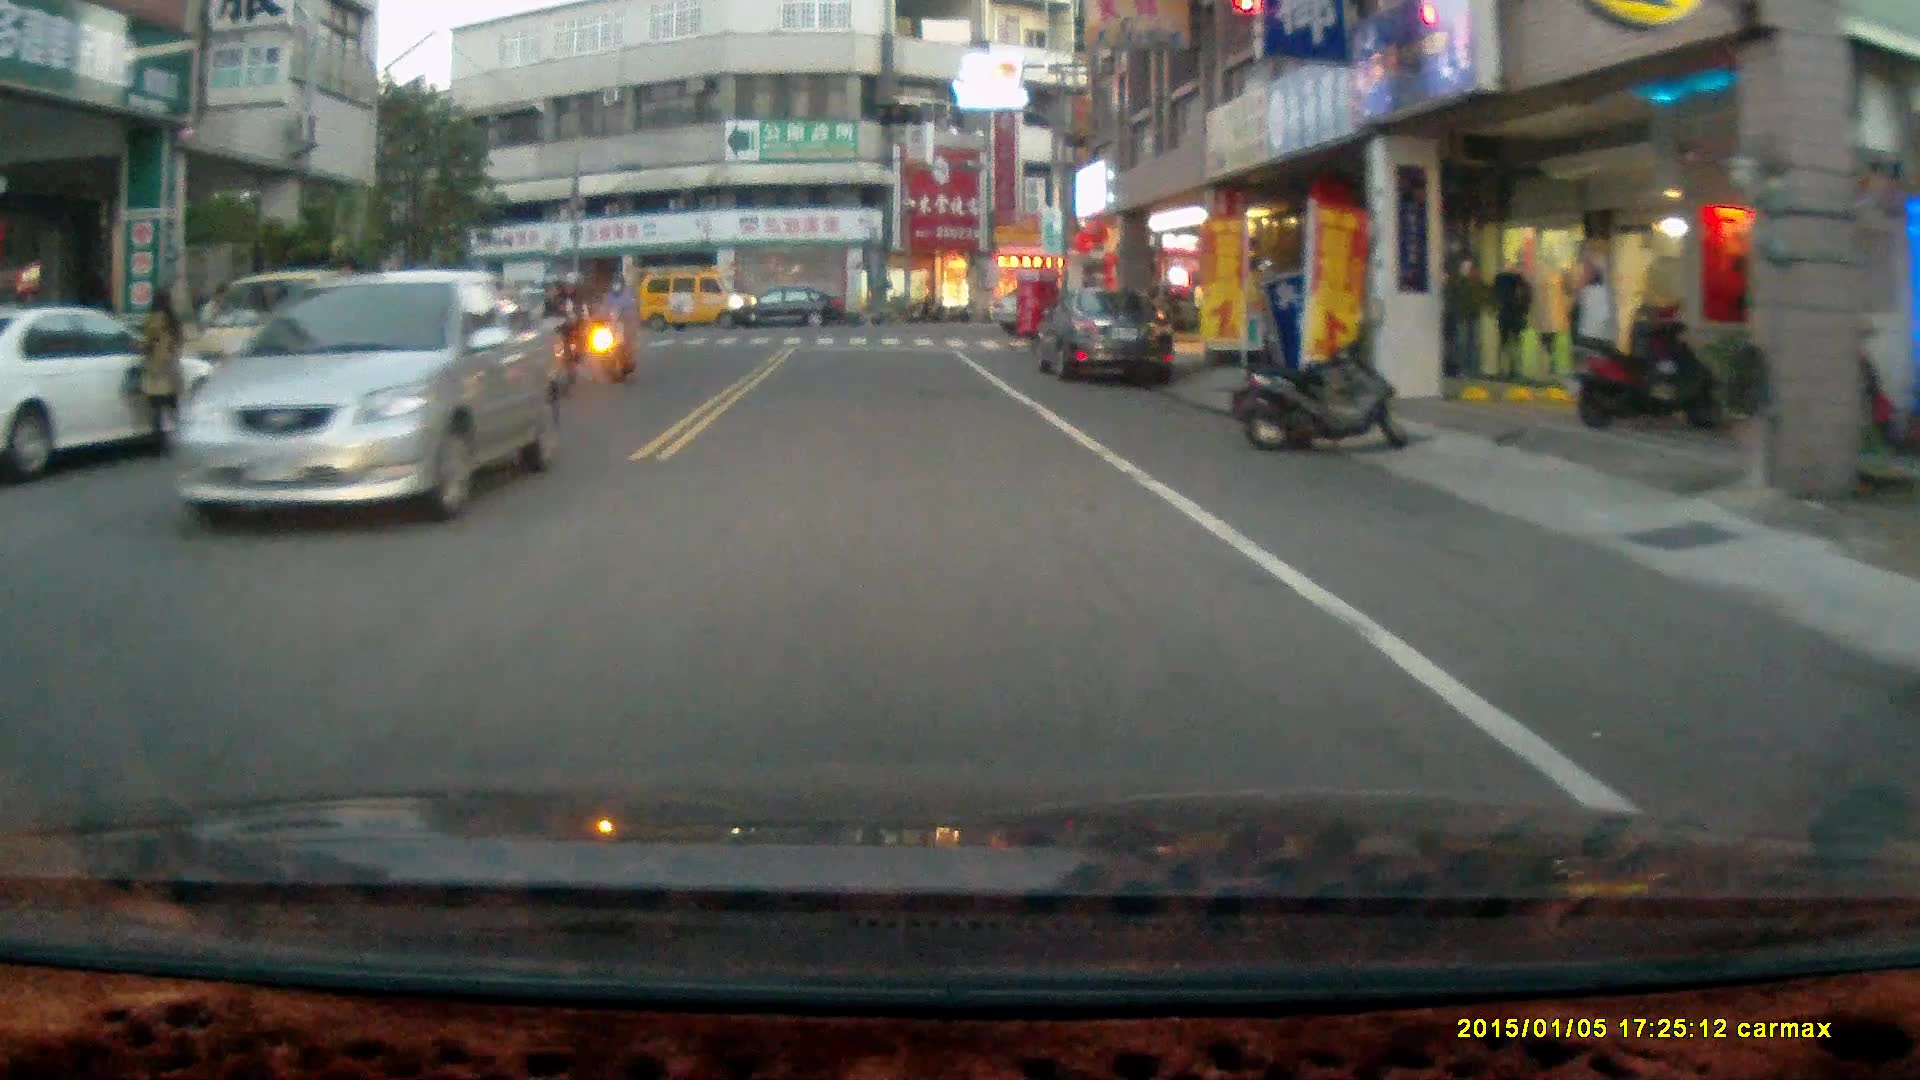pedestrian: (123, 283, 191, 456)
rider: (528, 269, 588, 404), (596, 273, 640, 387)
vehicle: (218, 273, 556, 549), (1, 306, 252, 486), (1038, 284, 1183, 386), (633, 267, 759, 339), (730, 288, 849, 333)
